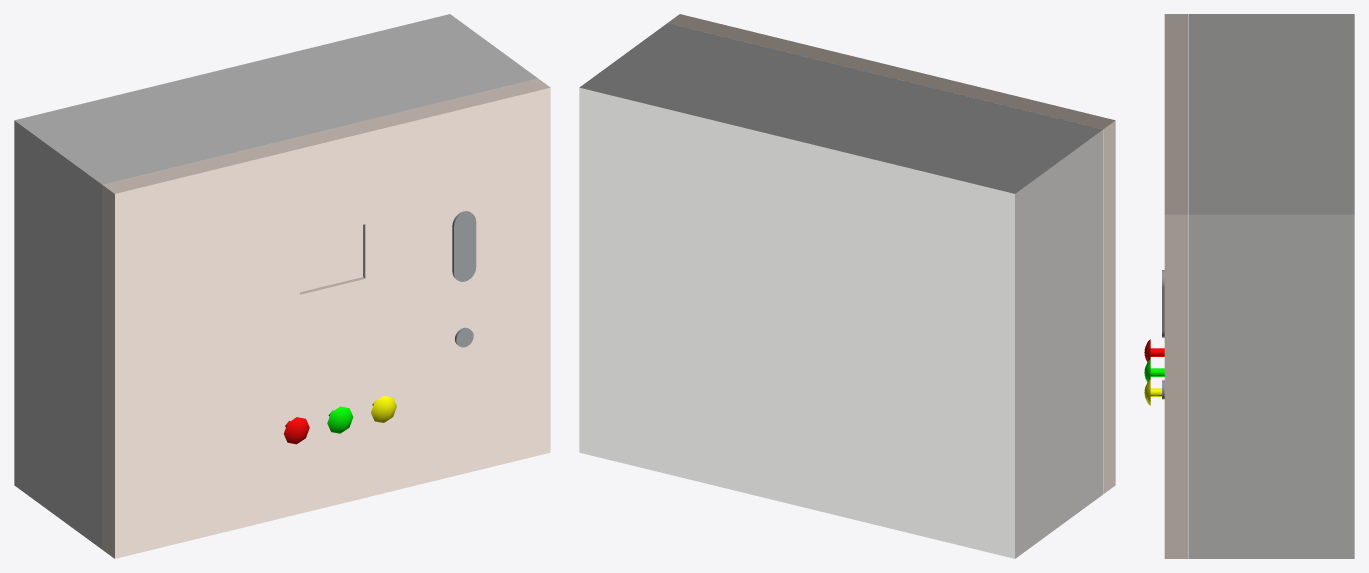
The model's file is kzg.glb.
3 views of the same model, side by side, from view 1: azimuth 30°, elevation 25°; view 2: azimuth 150°, elevation 25°; view 3: azimuth 270°, elevation 25° (orthographic). The views are drawn at different scales.
Visible parts, largest first — view 1: 控制器; view 2: 控制器; view 3: 控制器.
Part boxes in pixels (box(x1,y1,x2,y2)): 控制器: box(14, 14, 550, 558); 控制器: box(579, 14, 1115, 558); 控制器: box(1144, 14, 1354, 558).
Bounding box in the file's own units: 0.5 × 0.4001 × 0.2213.
